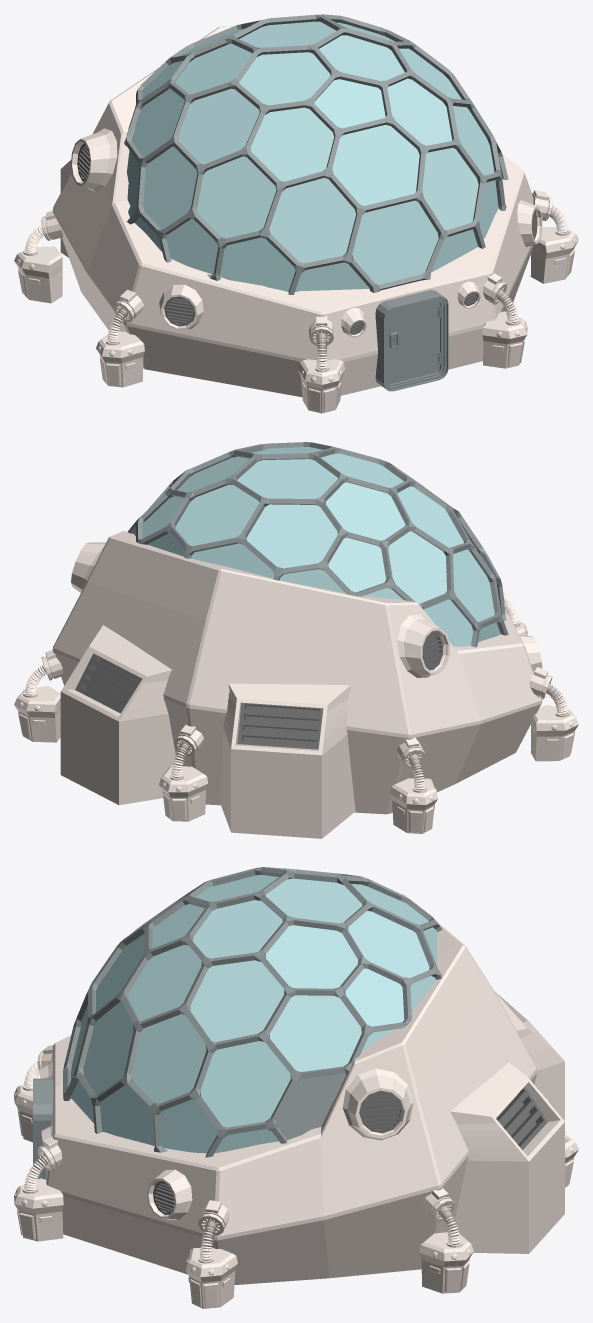
The model's file is DOME.fbx.
3 renders of one model, top to bottom at view 1: azimuth 30°, elevation 25°; view 2: azimuth 150°, elevation 25°; view 3: azimuth 270°, elevation 25°, orthographic. The views are drawn at different scales.
Parts seen in each view (by area): view 1: DomeComplete; view 2: DomeComplete; view 3: DomeComplete.
Boxes of the visible parts, x1,y1,x2,y2 form: DomeComplete: (14, 14, 578, 413); DomeComplete: (14, 442, 578, 838); DomeComplete: (14, 867, 578, 1308).
Size of the model in its own units: 1196 by 637 by 1112.
